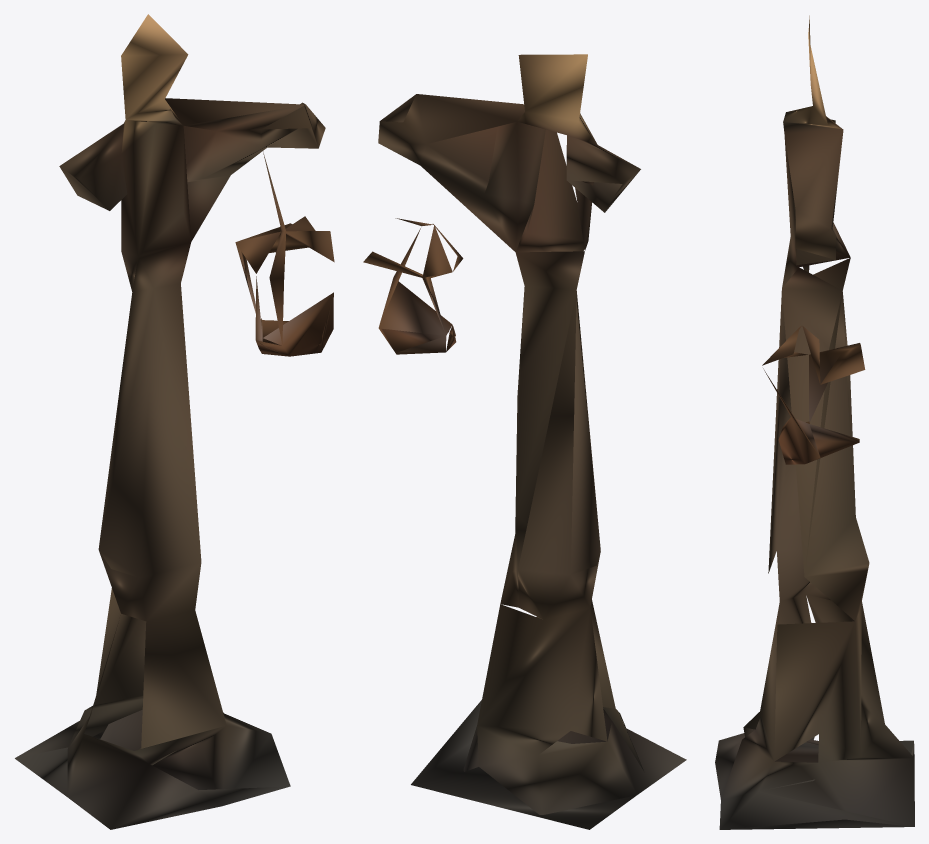
The model's file is decor_lantern_t1_bronze.trellis.glb.
3 views of the same model, side by side, from view 1: azimuth 30°, elevation 25°; view 2: azimuth 150°, elevation 25°; view 3: azimuth 270°, elevation 25° (orthographic).
Visible parts, largest first — view 1: world; view 2: world; view 3: world.
Boxes of the visible parts, x1,y1,x2,y2 form: world: (15, 14, 334, 829); world: (363, 54, 686, 829); world: (715, 15, 914, 829).
Size of the model in its own units: 0.9395 by 2.59 by 0.6081.
